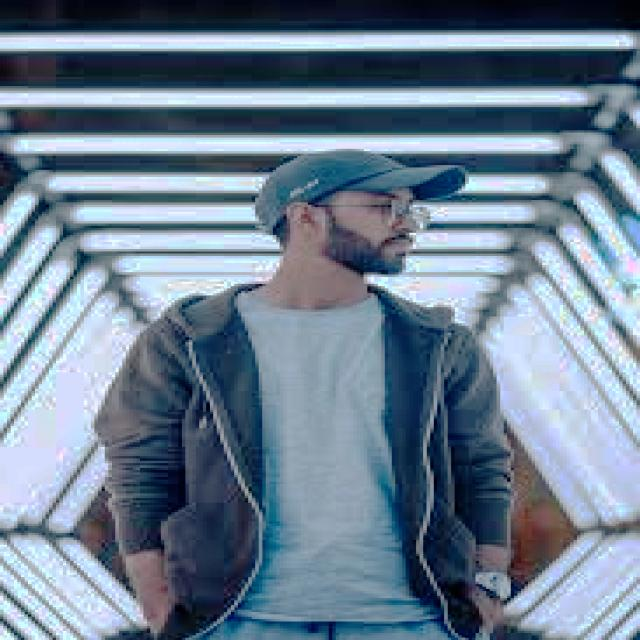TOPI: (234, 147, 469, 230)
